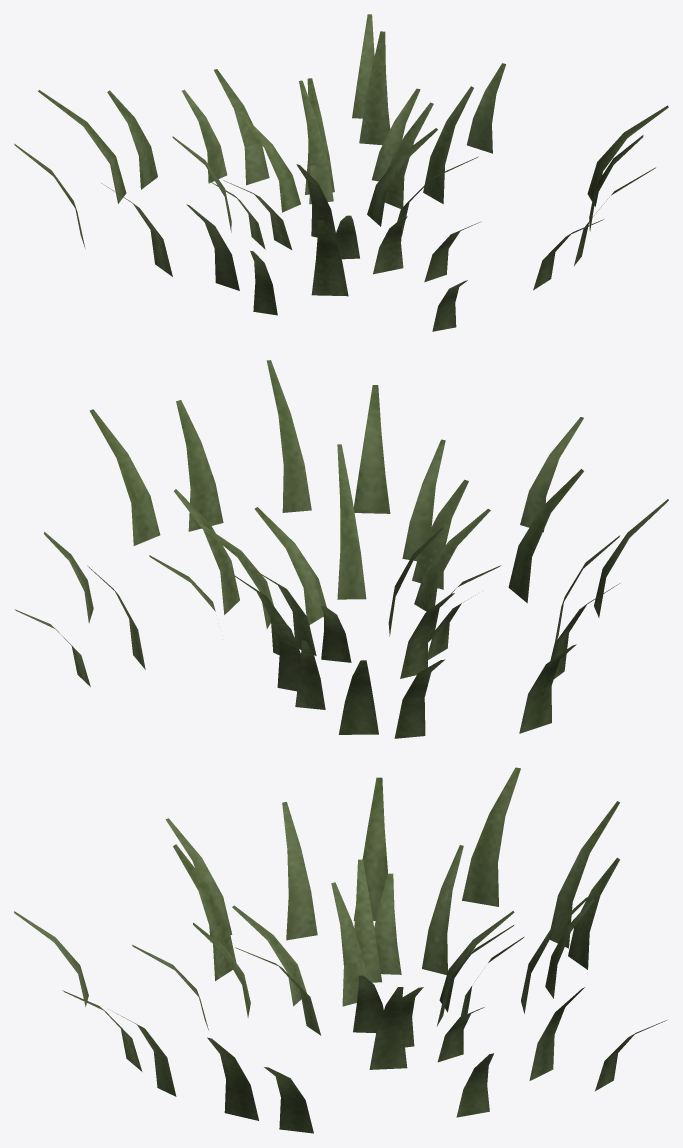
The model's file is grass_tuft_4.glb.
3 views of the same model, one above another, from view 1: azimuth 30°, elevation 25°; view 2: azimuth 150°, elevation 25°; view 3: azimuth 270°, elevation 25° (orthographic). The views are drawn at different scales.
Visible parts, largest first — view 1: grass_tuft_4; view 2: grass_tuft_4; view 3: grass_tuft_4.
Boxes of the visible parts, x1,y1,x2,y2 form: grass_tuft_4: (14, 14, 668, 331); grass_tuft_4: (14, 360, 668, 738); grass_tuft_4: (14, 767, 666, 1133).
Size of the model in its own units: 1.23 by 0.2217 by 1.18.
1 material, 1 textured.
